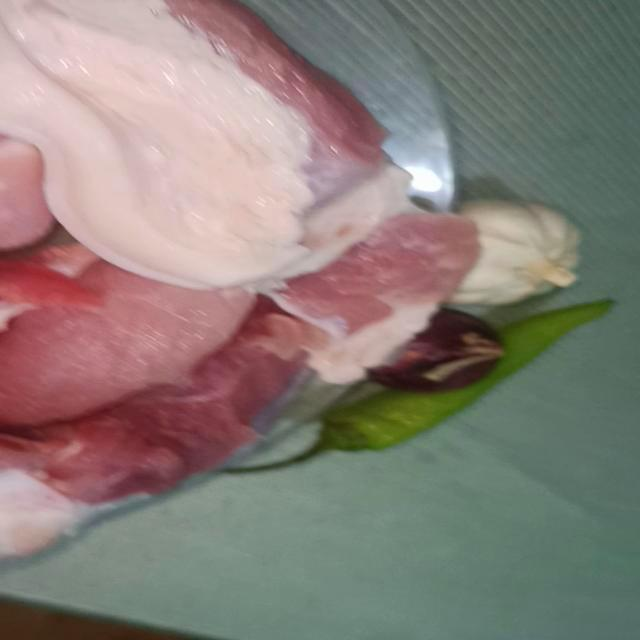chili_pepper: (261, 287, 637, 507)
garlic: (403, 175, 619, 295)
pork: (0, 2, 406, 270), (15, 322, 311, 585), (0, 233, 284, 423), (231, 195, 456, 377)
